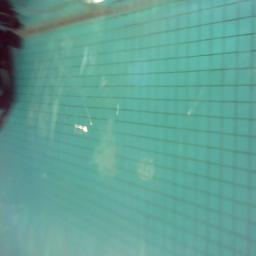Full: (0, 26, 25, 128)
Side: (0, 0, 25, 123)
